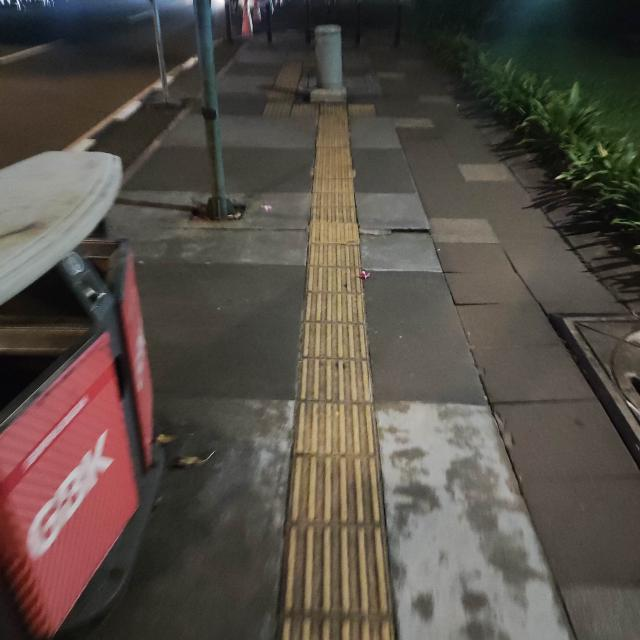lurus: (283, 149, 404, 640)
